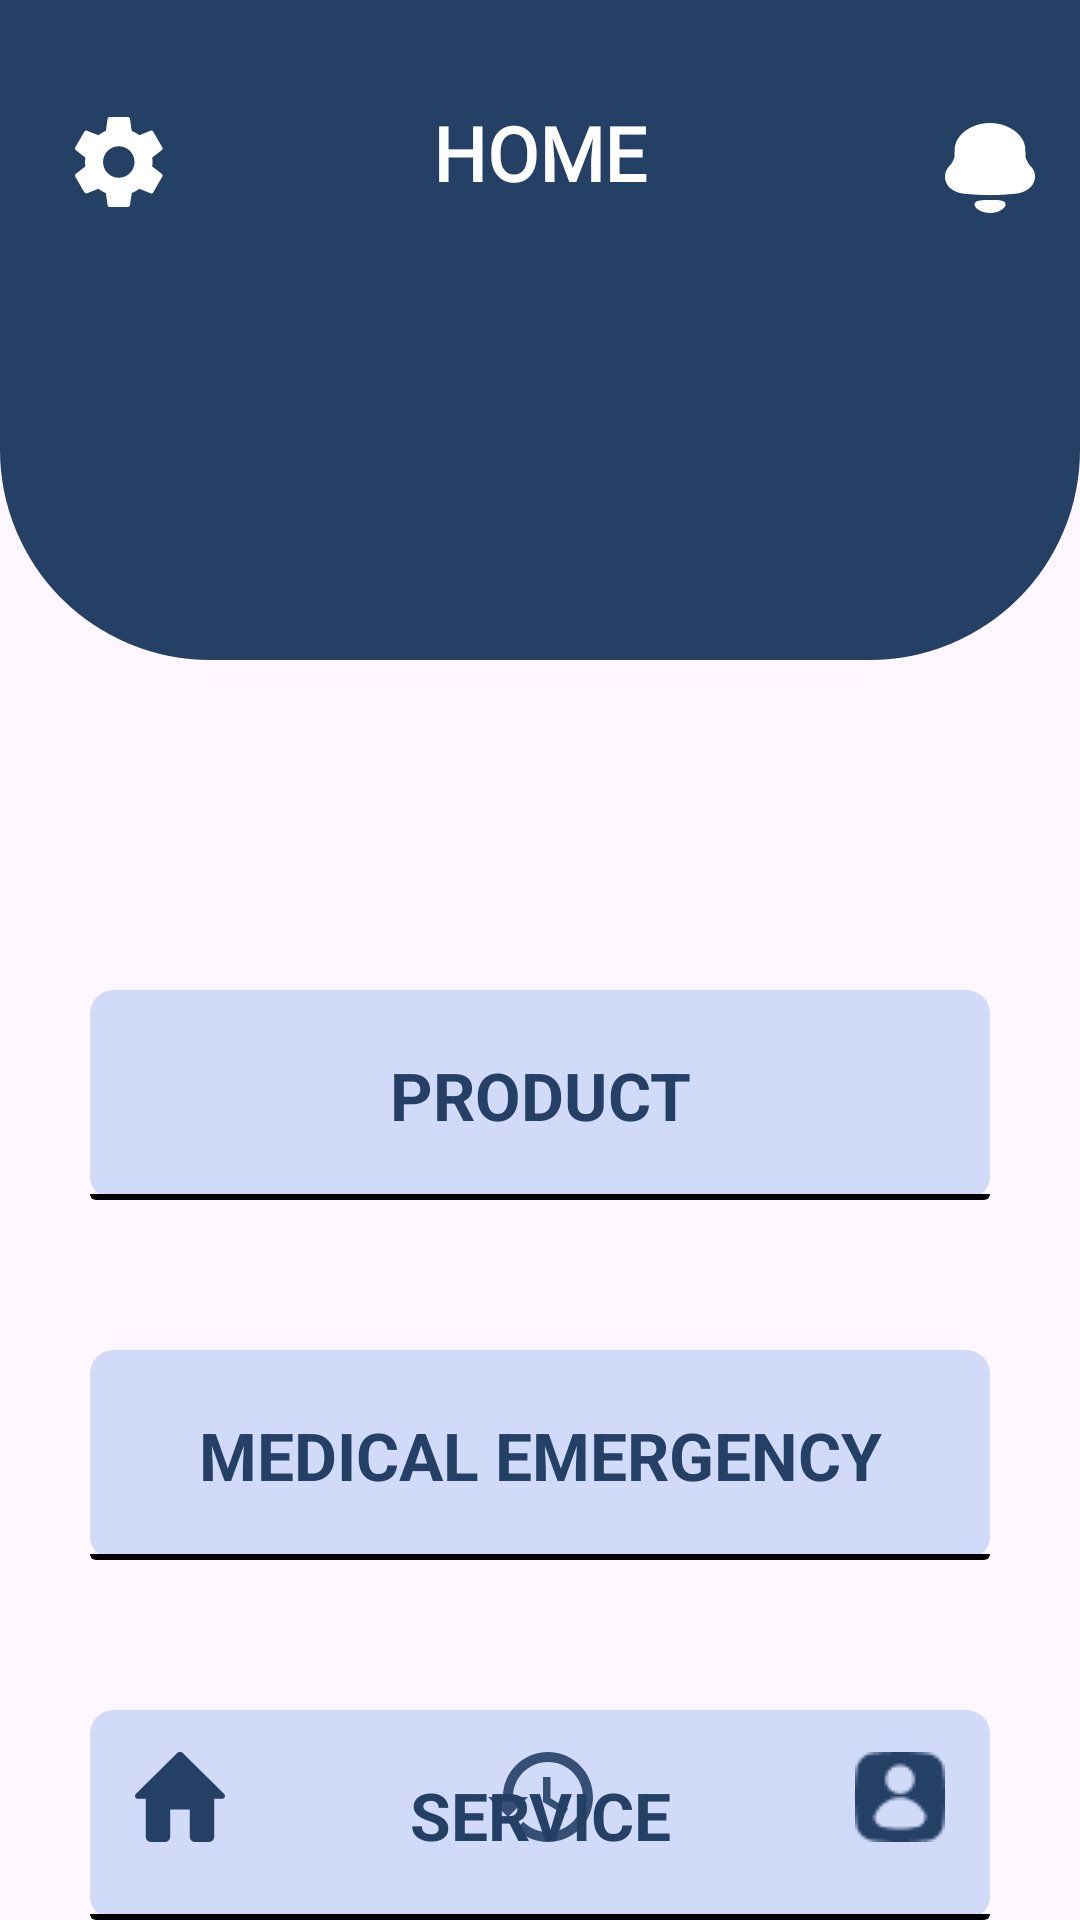

Where icons sit on this 1080 x 1920 app screen, as [left=x1, top=y1, right=x2, bottom=y2]:
Notifications: [left=945, top=123, right=1035, bottom=213]
Settings: [left=75, top=117, right=163, bottom=207]
